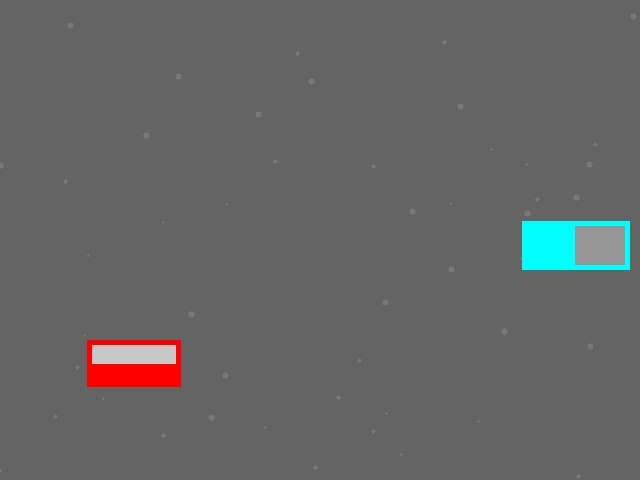car: (87, 340, 180, 386)
truck: (522, 221, 629, 269)
